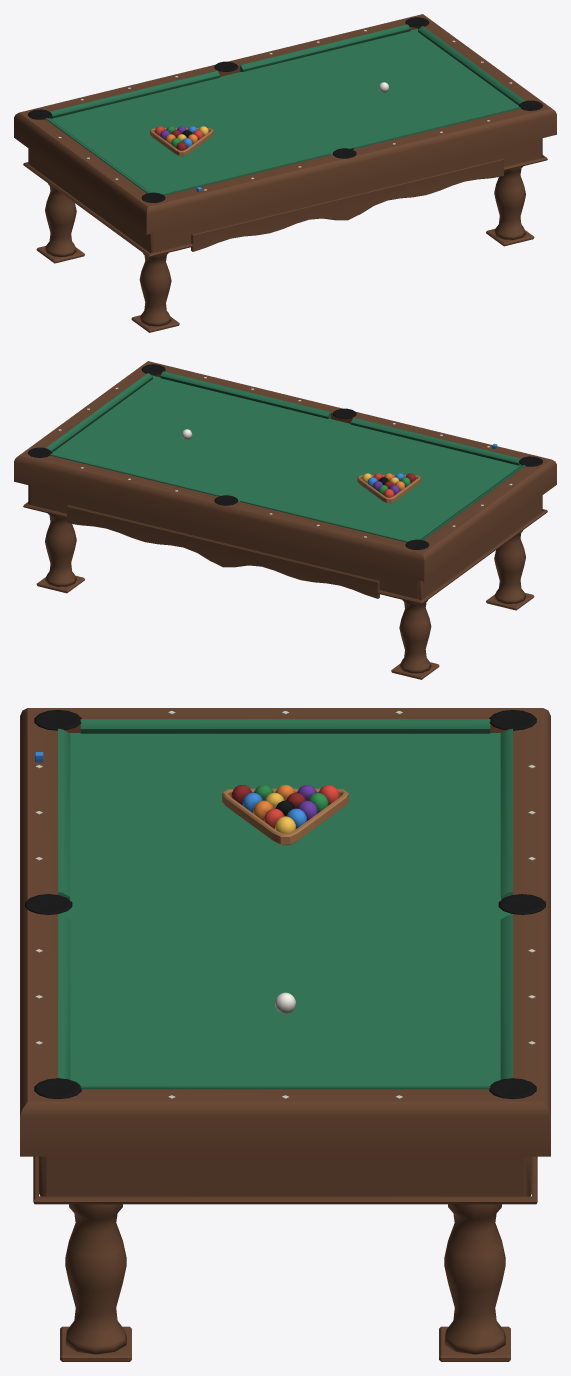
The model's file is poolTable.glb.
3 views of the same model, one above another, from view 1: azimuth 30°, elevation 25°; view 2: azimuth 150°, elevation 25°; view 3: azimuth 270°, elevation 25° (orthographic). The views are drawn at different scales.
Visible parts, largest first — view 1: body, racked, rack; view 2: body, racked, rack; view 3: body, racked, rack.
Part boxes in pixels (x1,y1,x2,y2): body: (14, 14, 556, 332); racked: (155, 126, 208, 150); rack: (150, 128, 213, 156); body: (14, 361, 556, 679); racked: (362, 473, 415, 497); rack: (357, 475, 420, 503); body: (20, 708, 550, 1361); racked: (231, 785, 339, 833); rack: (222, 788, 348, 845).
Bounding box in the file's own units: 2.5 × 0.807 × 1.4.
